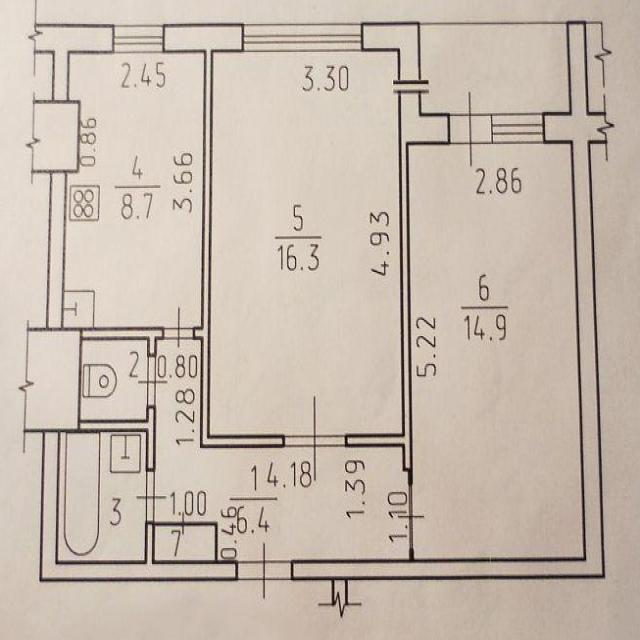Bathrooms: (59, 434, 145, 560), (81, 341, 146, 418)
Corridors: (155, 340, 408, 560), (421, 25, 569, 112)
Doors: (283, 394, 345, 483), (449, 90, 492, 168), (237, 542, 292, 600), (397, 484, 425, 549), (136, 471, 168, 522), (138, 356, 168, 406), (164, 306, 193, 350)
LBwalls: (361, 22, 449, 146), (33, 23, 112, 53), (165, 25, 243, 52), (544, 112, 608, 143)
Offices: (211, 53, 400, 433), (410, 145, 583, 556), (64, 53, 203, 325)
Walls: (292, 143, 605, 608), (193, 53, 284, 449), (46, 53, 164, 356), (39, 406, 237, 583), (345, 146, 413, 484), (567, 20, 589, 112)
Windows: (242, 23, 361, 52), (492, 113, 544, 144), (112, 25, 164, 53)
